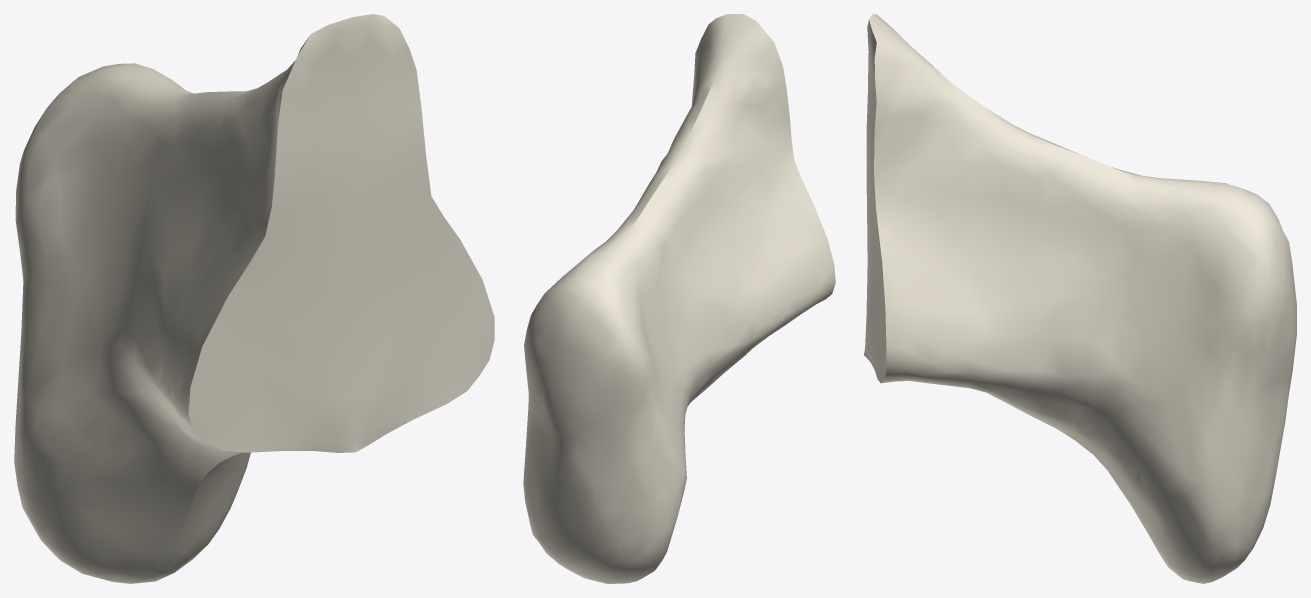
File: fma16196_mm2370.glb
3 views of the same model, side by side, from view 1: azimuth 30°, elevation 25°; view 2: azimuth 150°, elevation 25°; view 3: azimuth 270°, elevation 25° (orthographic). The views are drawn at different scales.
Parts seen in each view (by area): view 1: FMA16196_MM2370; view 2: FMA16196_MM2370; view 3: FMA16196_MM2370.
Boxes of the visible parts, x1,y1,x2,y2 form: FMA16196_MM2370: [14, 14, 494, 583]; FMA16196_MM2370: [523, 14, 835, 583]; FMA16196_MM2370: [864, 14, 1296, 583].
Bounding box in the file's own units: 0.014 × 0.0312 × 0.0221.
